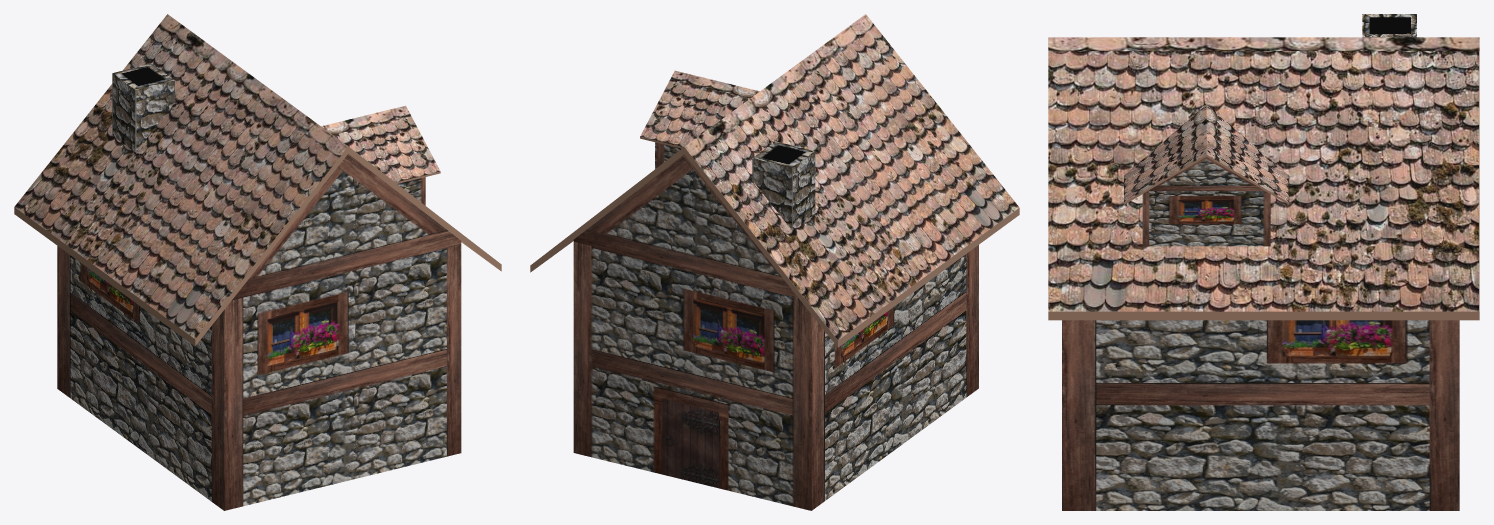
Rendered from House01.fbx.
The picture shows the model from 3 angles, left to right: view 1: azimuth 30°, elevation 25°; view 2: azimuth 150°, elevation 25°; view 3: azimuth 270°, elevation 25°; orthographic projection. The views are drawn at different scales.
Parts seen in each view (by area): view 1: House, Roof, TopHouse_Roof, Chimney; view 2: House, Roof, TopHouse_Roof, Chimney; view 3: Roof, House, TopHouse, TopHouse_Roof, Chimney.
Part boxes in pixels (x1,y1,x2,y2): House: (57,154,461,510); Roof: (14,14,501,346); TopHouse_Roof: (321,105,440,183); Chimney: (112,63,174,152); House: (573,154,978,510); Roof: (530,14,1019,347); TopHouse_Roof: (640,70,759,148); Chimney: (752,141,815,230); Roof: (1048,37,1479,320); House: (1062,320,1459,510); TopHouse: (1142,157,1270,246); TopHouse_Roof: (1124,104,1289,204); Chimney: (1362,14,1416,37).
Size of the model in its own units: 732 by 775 by 748.
